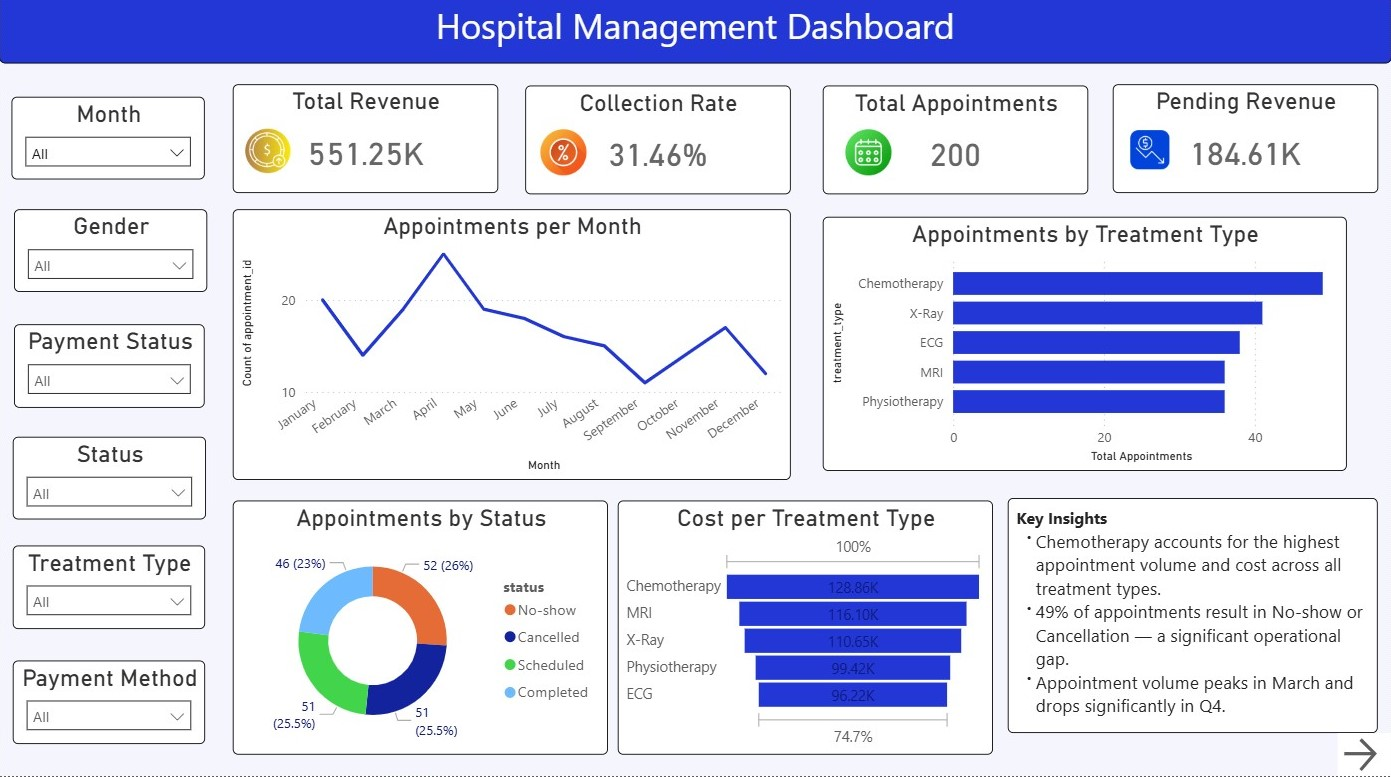

This screenshot's page, from the dashboard's own definition file:
{"tool":"powerbi","page":{"name":"Overview","canvas":[1280,720],"ordinal":0},"visuals":[{"type":"textbox","box":[0,0,1280,65],"z":0},{"type":"card","title":"Total Revenue","fields":{"Values":["billing.Total Revenue"]},"box":[215,83.8,243.8,100],"z":1000},{"type":"card","title":"Total Appointments","fields":{"Values":["appointments.Total Appointments"]},"box":[757.5,85,243.8,100],"z":2000},{"type":"card","title":"Collection Rate","fields":{"Values":["billing.Collection Rate"]},"box":[483.8,85,243.8,100],"z":3000},{"type":"card","title":"Pending Revenue","fields":{"Values":["billing.Pending Revenue"]},"box":[1023.8,83.8,243.8,100],"z":4000},{"type":"funnel","title":"Cost per Treatment Type","fields":{"Category":["treatments.treatment_type"],"Y":["Sum(treatments.cost)"]},"box":[568.8,466.2,345,233.8],"z":5000},{"type":"donutChart","title":"Appointments by Status","fields":{"Y":["appointments.Total Appointments"],"Category":["appointments.status"]},"box":[215,466.2,345,233.8],"z":6000},{"type":"slicer","title":"Status","fields":{"Values":["appointments.status"]},"box":[12.5,407.5,177.5,76.2],"z":7000},{"type":"slicer","title":"Month","fields":{"Values":["billing.Month"]},"box":[11.2,95,177.5,76.2],"z":8000},{"type":"slicer","title":"Payment Status","fields":{"Values":["billing.payment_status"]},"box":[14,304.7,175.6,76.7],"z":9000},{"type":"slicer","title":"Payment Method","fields":{"Values":["billing.payment_method"]},"box":[12.8,614,176.7,76.7],"z":10000},{"type":"slicer","title":"Treatment Type","fields":{"Values":["treatments.treatment_type"]},"box":[12.8,508.1,176.7,76.7],"z":11000},{"type":"slicer","title":"Gender","fields":{"Values":["patients.gender"]},"box":[13.8,198.8,177.5,76.2],"z":12000},{"type":"clusteredBarChart","title":"Appointments by Treatment Type","fields":{"Category":["treatments.treatment_type"],"Y":["appointments.Total Appointments"]},"box":[757,205.8,481.4,233.7],"z":13000},{"type":"image","box":[226.2,118.8,41.2,53.8],"z":14000},{"type":"image","box":[1040,125,36.2,37.5],"z":15000},{"type":"image","box":[775,125,47.5,42.5],"z":16000},{"type":"image","box":[495,125,47.5,42.5],"z":17000},{"type":"lineChart","title":"Appointments per Month","fields":{"Category":["appointments.appointment_date.Variation.Date Hierarchy.Month"],"Y":["CountNonNull(appointments.appointment_id)"]},"box":[215,198.8,512.5,248.8],"z":18000},{"type":"textbox","box":[927.5,463.8,340,216.2],"z":19000},{"type":"actionButton","box":[1230,680,50,40],"z":20000}]}

Visuals, with their boxes in screenshot pixels (x1, y1, x2, y2), scaled from the page's 1280x720 canvas onto the 1391x777 screenshot:
textbox: Rect(0, 0, 1390, 70)
"Total Revenue" card: Rect(234, 90, 499, 198)
"Total Appointments" card: Rect(823, 92, 1088, 200)
"Collection Rate" card: Rect(526, 92, 791, 200)
"Pending Revenue" card: Rect(1113, 90, 1378, 198)
"Cost per Treatment Type" funnel: Rect(618, 503, 993, 755)
"Appointments by Status" donutChart: Rect(234, 503, 609, 755)
"Status" slicer: Rect(14, 440, 206, 522)
"Month" slicer: Rect(12, 103, 205, 185)
"Payment Status" slicer: Rect(15, 329, 206, 412)
"Payment Method" slicer: Rect(14, 663, 206, 745)
"Treatment Type" slicer: Rect(14, 548, 206, 631)
"Gender" slicer: Rect(15, 215, 208, 297)
"Appointments by Treatment Type" clusteredBarChart: Rect(823, 222, 1346, 474)
image: Rect(246, 128, 291, 186)
image: Rect(1130, 135, 1170, 175)
image: Rect(842, 135, 894, 181)
image: Rect(538, 135, 590, 181)
"Appointments per Month" lineChart: Rect(234, 215, 791, 483)
textbox: Rect(1008, 501, 1377, 734)
actionButton: Rect(1337, 734, 1390, 776)
